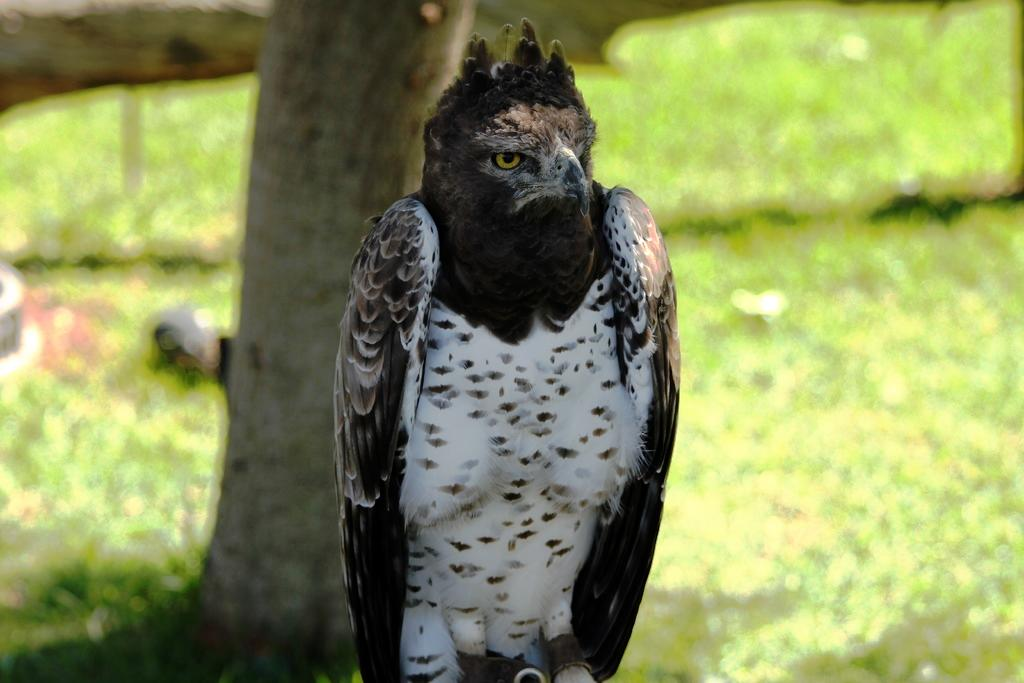Owl: (326, 21, 677, 642)
